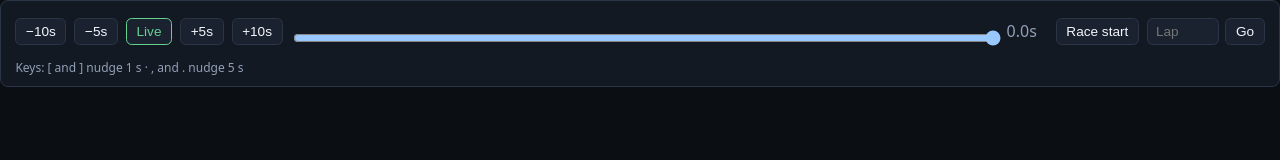
Test case: TransportBar -- live › shows a message when jumping to a lap that has not been seen
The image size is (1280, 160).
Type "5" into the number field named "Lap number" at point(1183, 31), box 1147,18 -> 1219,45
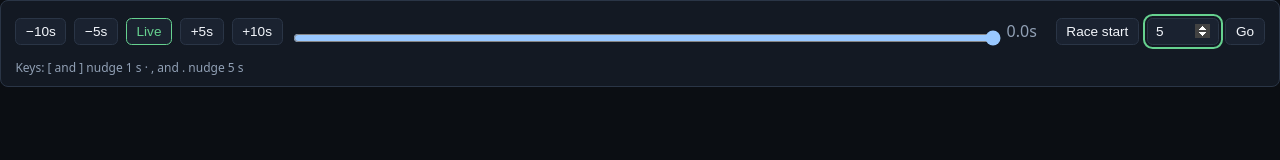
Click the button "Go" at point(1245, 31), box 1225,18 -> 1265,45
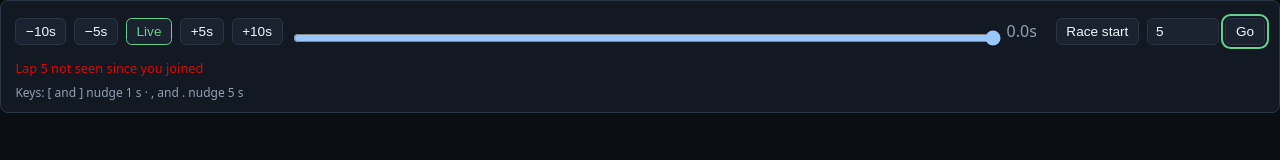
Check: the text "Lap 5 not seen since you joined" is shown, box 15,59 -> 203,77
